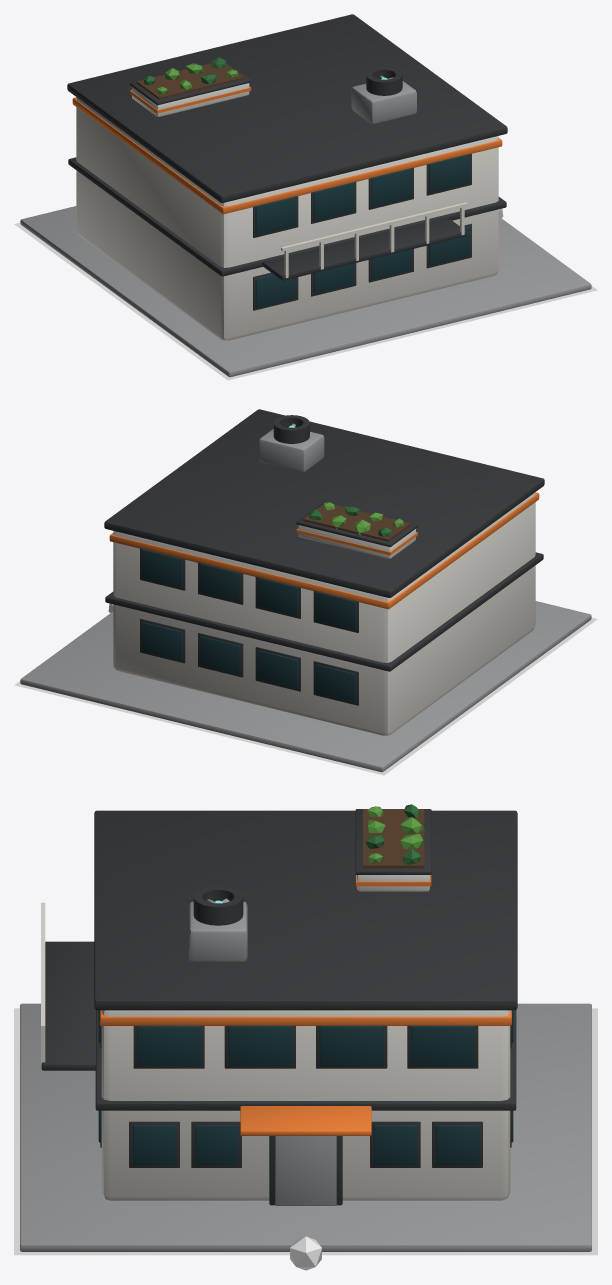
The model's file is living_quarters_2x2.gltf.
3 renders of one model, top to bottom at view 1: azimuth 30°, elevation 25°; view 2: azimuth 150°, elevation 25°; view 3: azimuth 270°, elevation 25°, orthographic. The views are drawn at different scales.
Visible parts, largest first — view 1: LivingQuarters, %P%Footprint; view 2: LivingQuarters, %P%Footprint; view 3: LivingQuarters, %P%Footprint, %P%AnchorIn.
Boxes of the visible parts, box(x1,y1,x2,y2) form: LivingQuarters: box(20, 14, 591, 377); %P%Footprint: box(14, 223, 597, 380); LivingQuarters: box(20, 409, 591, 772); %P%Footprint: box(14, 618, 597, 775); LivingQuarters: box(20, 804, 591, 1251); %P%Footprint: box(14, 1008, 597, 1255); %P%AnchorIn: box(290, 1236, 321, 1270).
Size of the model in its own units: 4.12 by 2.2 by 4.
